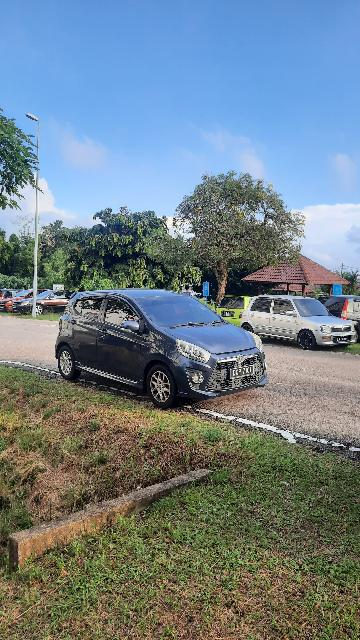License_Plate: (230, 365, 260, 381)
car: (55, 287, 271, 407), (240, 291, 360, 351)
